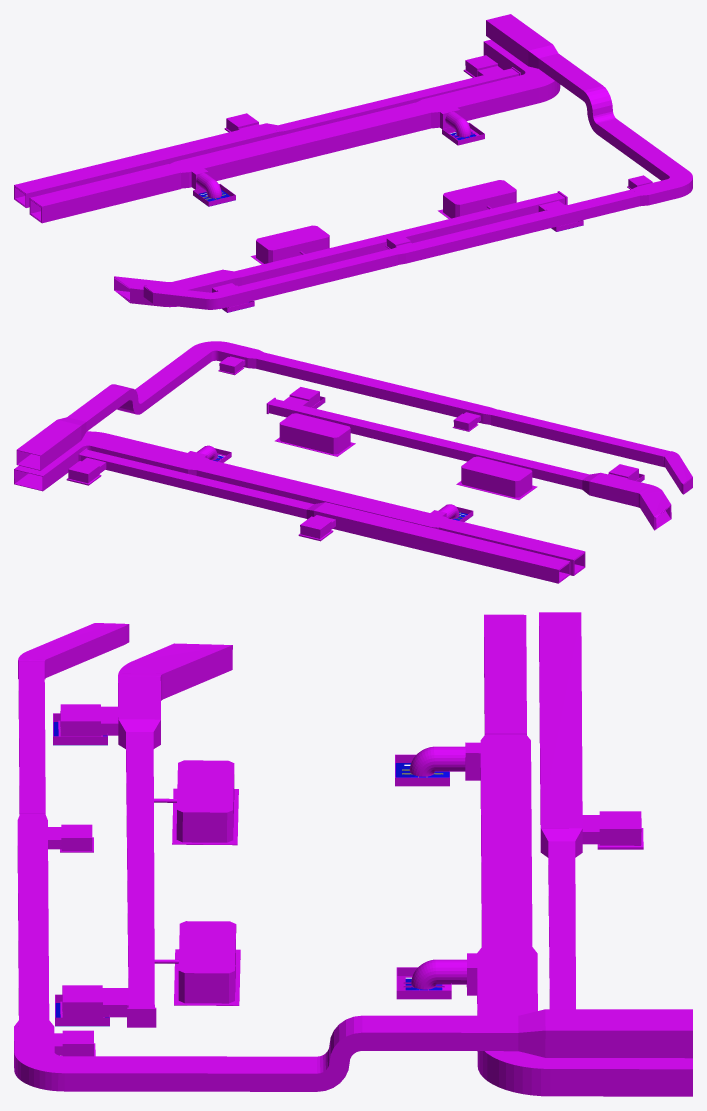
File: Ventilation.FBX
3 views of the same model, one above another, from view 1: azimuth 30°, elevation 25°; view 2: azimuth 150°, elevation 25°; view 3: azimuth 270°, elevation 25° (orthographic). The views are drawn at different scales.
Visible parts, largest first — view 1: Ventilation; view 2: Ventilation; view 3: Ventilation.
Boxes of the visible parts, box(x1,y1,x2,y2) form: Ventilation: box(14, 14, 692, 312); Ventilation: box(14, 341, 692, 583); Ventilation: box(14, 612, 692, 1096).
Size of the model in its own units: 5950 by 585 by 3763.
